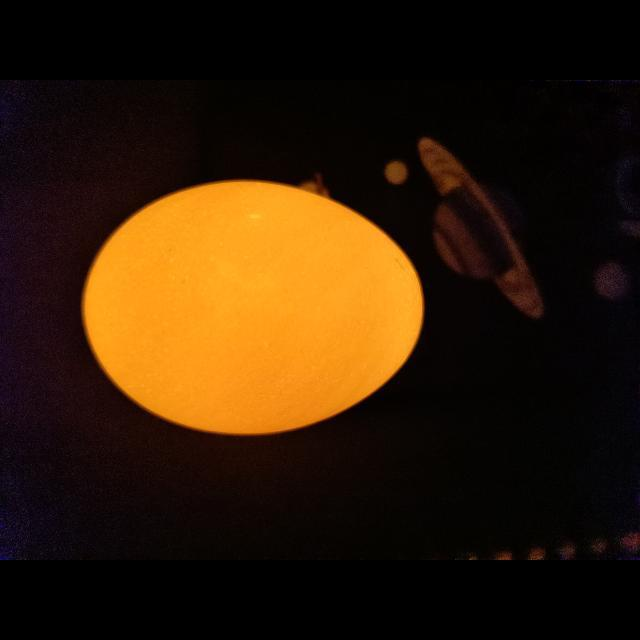AA - Premium: (83, 181, 424, 434)
